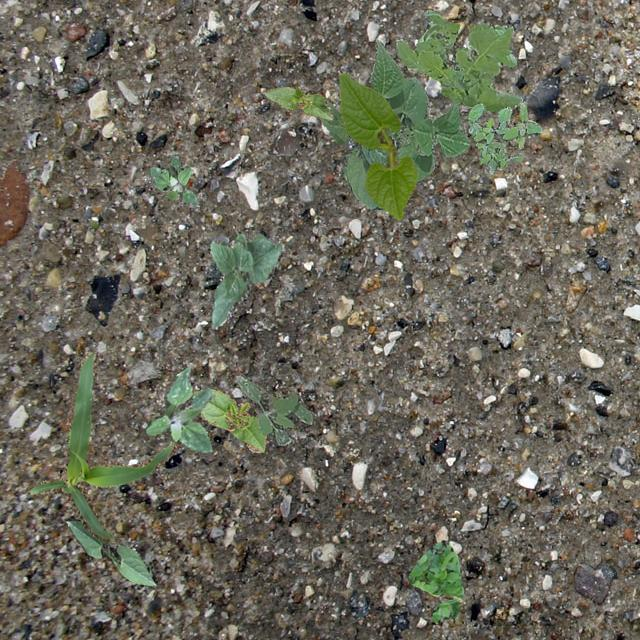crop: (25, 349, 178, 542), (318, 38, 468, 208), (338, 72, 416, 220), (210, 230, 280, 328), (66, 518, 156, 586), (190, 388, 266, 452), (264, 86, 332, 120)
weed: (394, 8, 522, 112), (144, 364, 210, 452), (234, 372, 314, 444), (468, 100, 540, 173), (408, 540, 464, 622), (148, 155, 196, 203)
